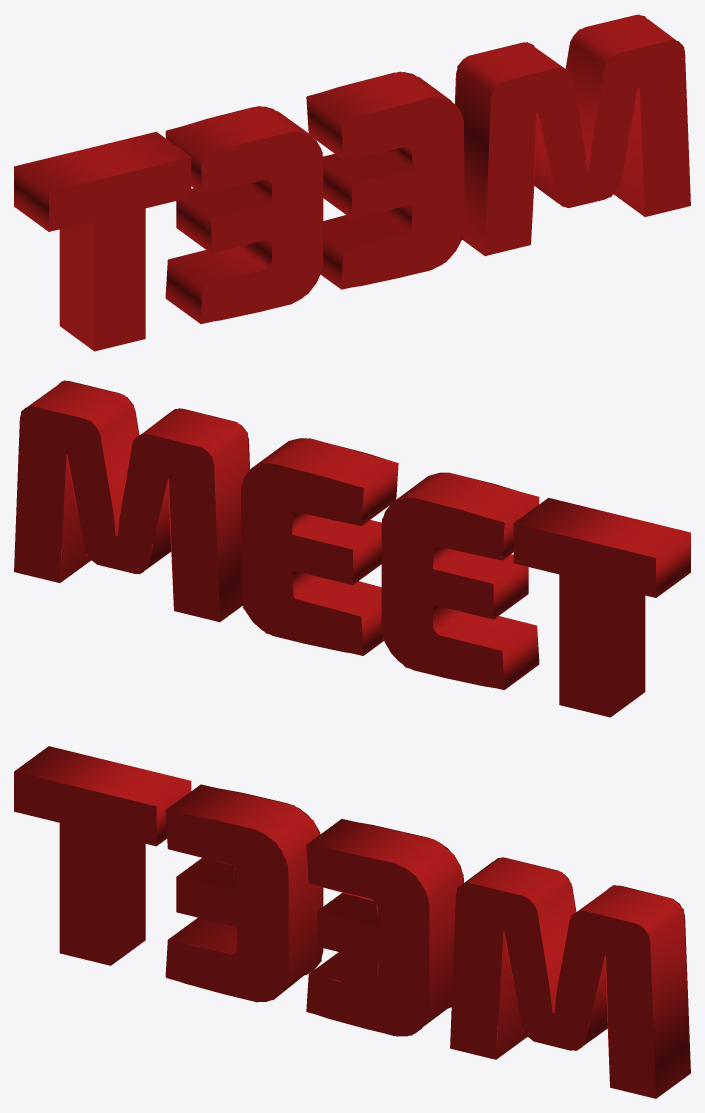
Rendered from meet.fbx.
3 renders of one model, top to bottom at view 1: azimuth 30°, elevation 25°; view 2: azimuth 150°, elevation 25°; view 3: azimuth 330°, elevation 25°, orthographic.
Visible parts, largest first — view 1: Text; view 2: Text; view 3: Text.
Part boxes in pixels (box(x1,y1,x2,y2)): Text: box(14, 14, 690, 351); Text: box(14, 380, 690, 717); Text: box(14, 746, 690, 1098).
Size of the model in its own units: 8.51 by 2.19 by 0.8.
